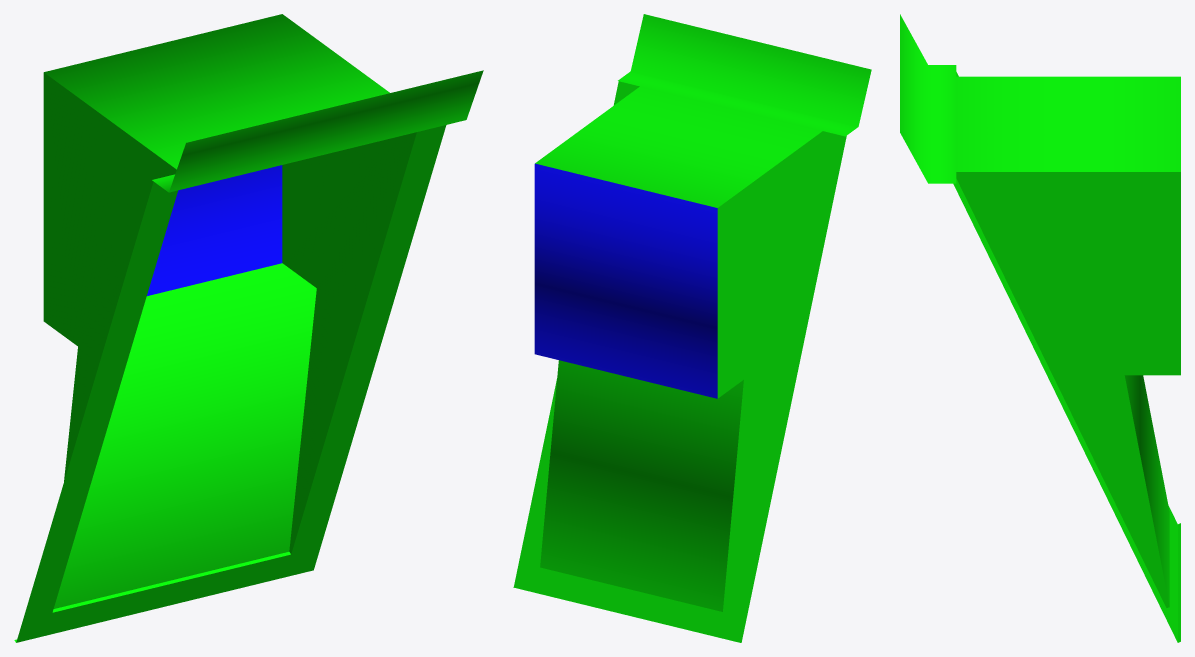
Rendered from LargeWall_Window.fbx.
The picture shows the model from 3 angles, left to right: view 1: azimuth 30°, elevation 25°; view 2: azimuth 150°, elevation 25°; view 3: azimuth 270°, elevation 25°; orthographic projection. The views are drawn at different scales.
Parts seen in each view (by area): view 1: LargeWall_Window; view 2: LargeWall_Window; view 3: LargeWall_Window.
Part boxes in pixels (x1,y1,x2,y2): LargeWall_Window: (14,14,483,642); LargeWall_Window: (513,14,871,642); LargeWall_Window: (900,14,1180,642).
Bounding box in the file's own units: 5 × 10.02 × 5.
